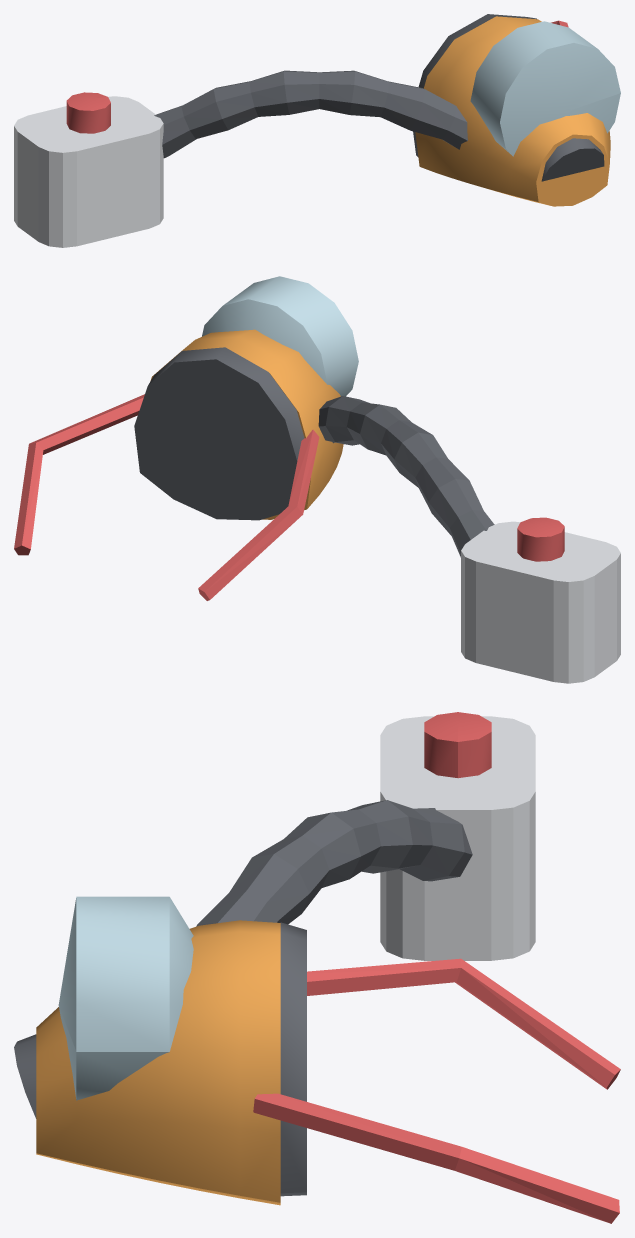
The model's file is mountaineering-and-summit-expedition-oxygen-mask-and-r-039c0f68__18818.glb.
3 renders of one model, top to bottom at view 1: azimuth 30°, elevation 25°; view 2: azimuth 150°, elevation 25°; view 3: azimuth 270°, elevation 25°, orthographic. The views are drawn at different scales.
Visible parts, largest first — view 1: oxygen-mask-and-regulator; view 2: oxygen-mask-and-regulator; view 3: oxygen-mask-and-regulator.
Part boxes in pixels (x1,y1,x2,y2): oxygen-mask-and-regulator: (14, 14, 620, 247); oxygen-mask-and-regulator: (14, 276, 620, 683); oxygen-mask-and-regulator: (14, 712, 620, 1223).
Bounding box in the file's own units: 0.4453 × 0.1387 × 0.2736.
